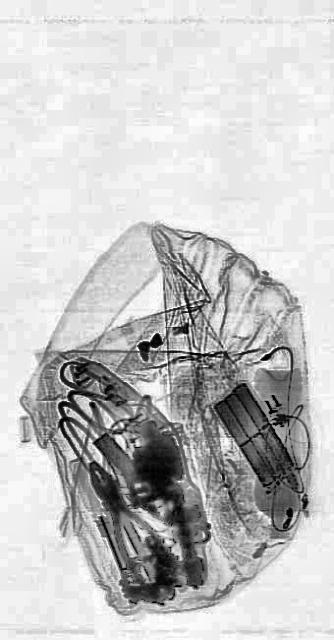Pliers: (78, 442, 164, 590)
